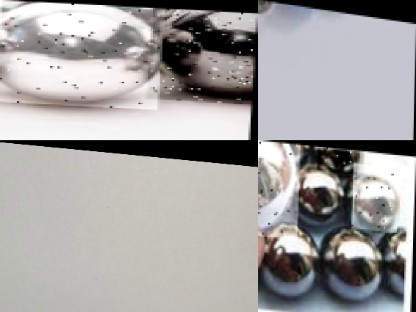ironball: (0, 0, 164, 108), (147, 6, 257, 101), (323, 217, 380, 309), (257, 223, 322, 300), (257, 140, 300, 239), (352, 160, 399, 229), (317, 145, 364, 172)
